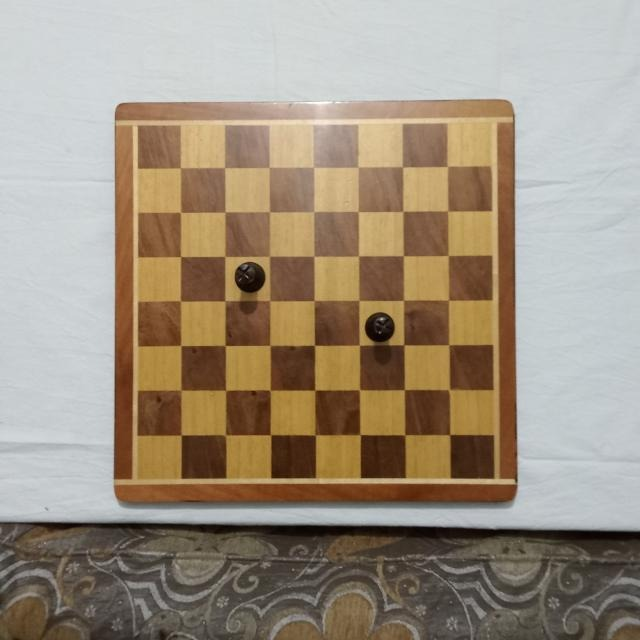black-rook: (233, 260, 267, 293), (363, 310, 396, 341)
